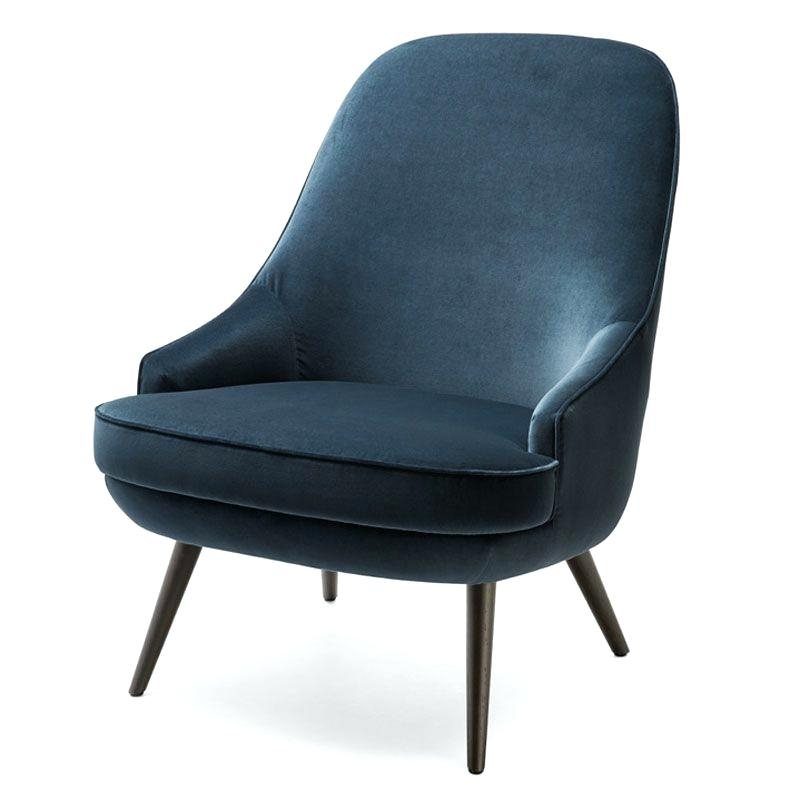chairs: (93, 31, 684, 775)
